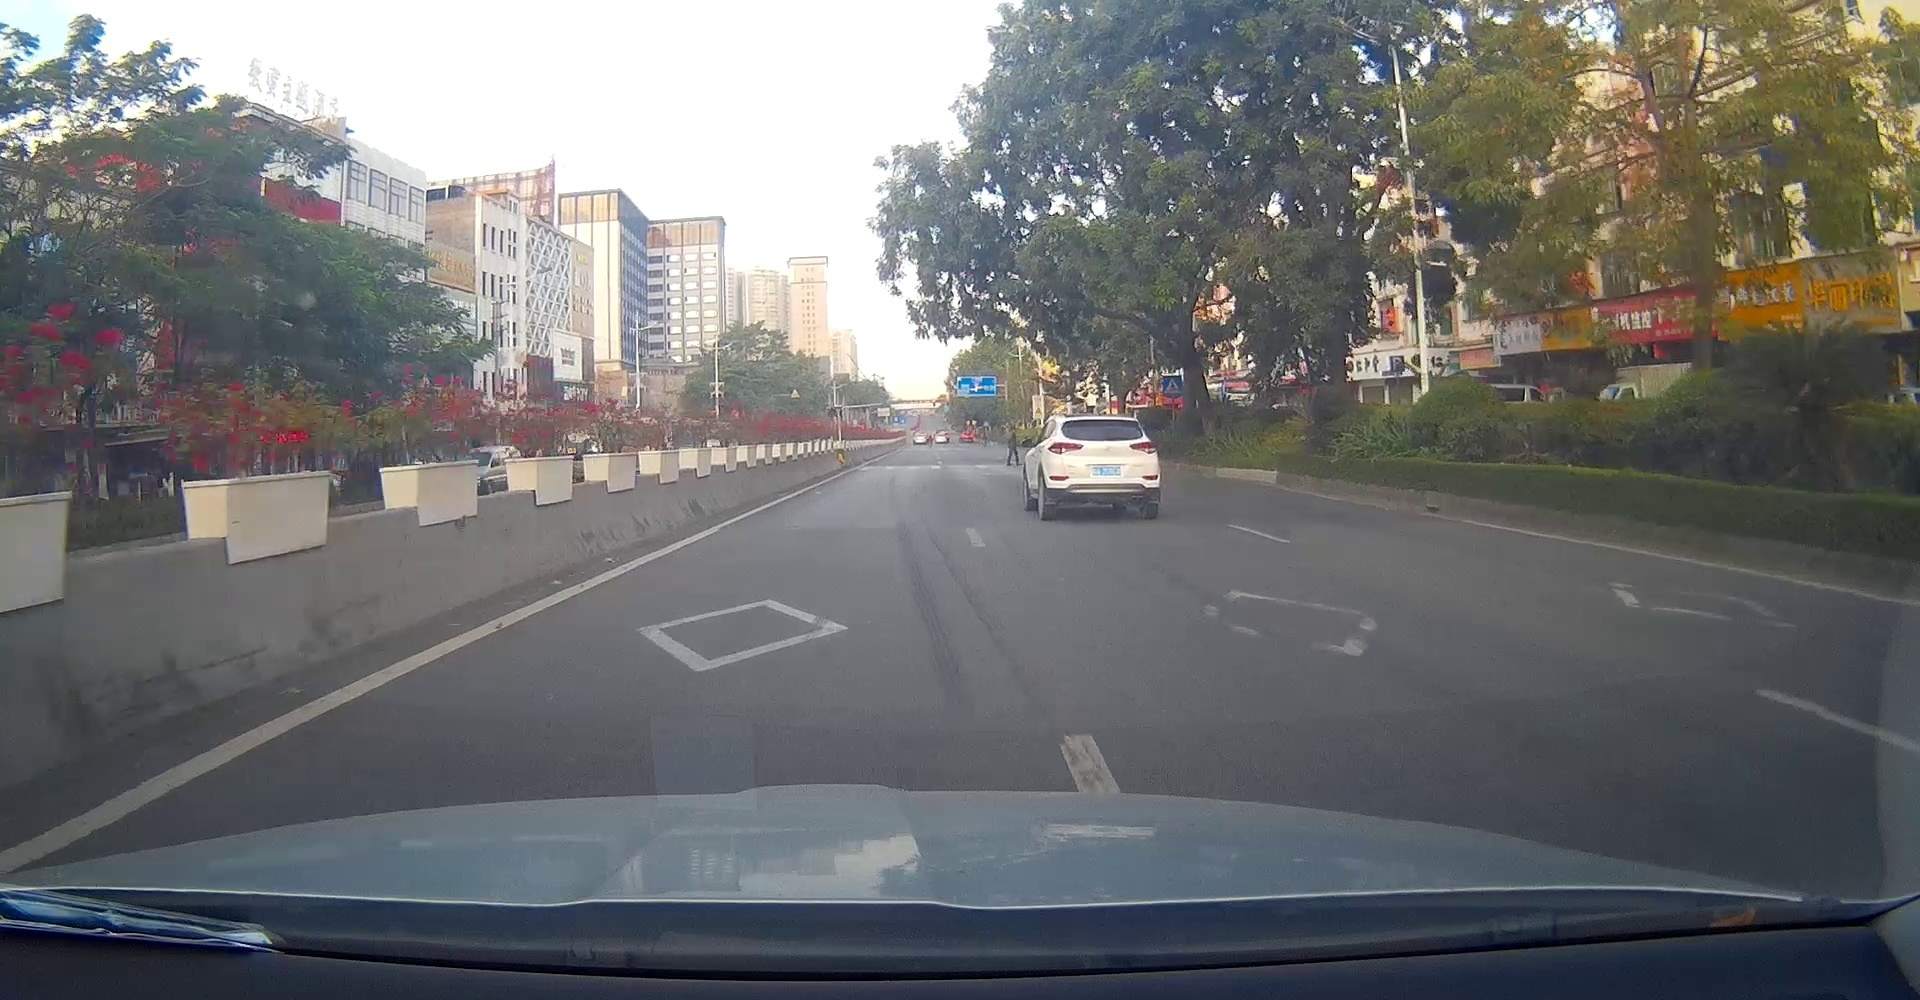L_light: (1048, 442, 1083, 456)
R_light: (1128, 440, 1157, 454)
T_light: (1098, 419, 1112, 421)
day-no: (1043, 415, 1161, 520)
